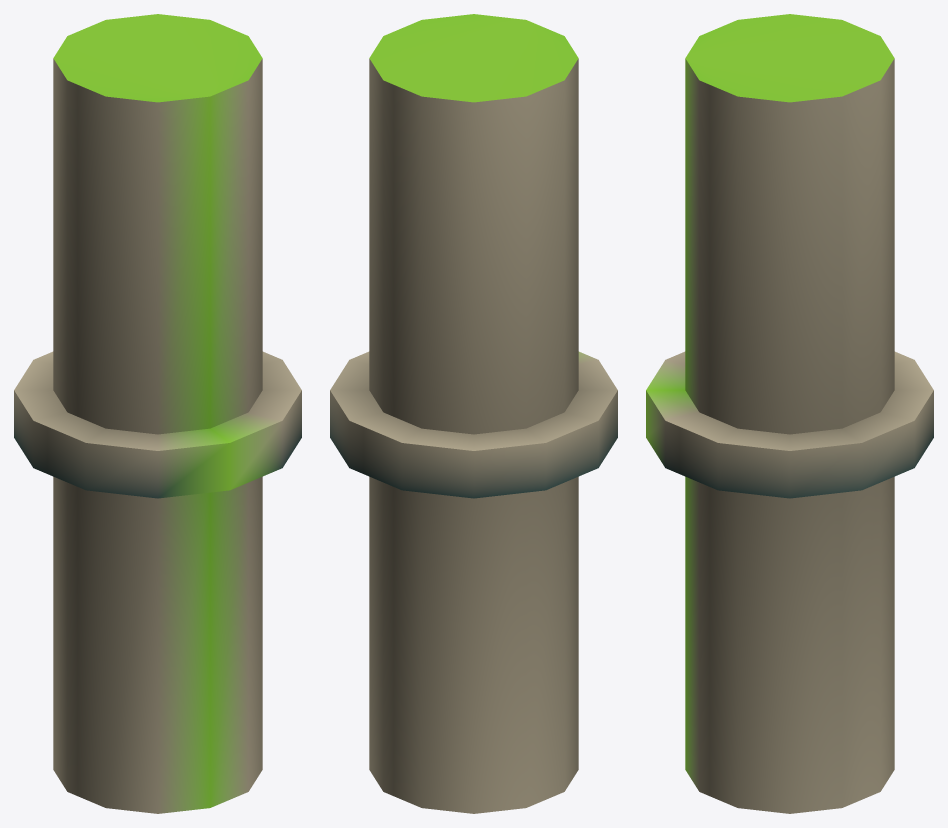
Rendered from intake_spine_segment.glb.
The picture shows the model from 3 angles, left to right: view 1: azimuth 30°, elevation 25°; view 2: azimuth 150°, elevation 25°; view 3: azimuth 270°, elevation 25°; orthographic projection.
Visible parts, largest first — view 1: Spine; view 2: Spine; view 3: Spine.
Part boxes in pixels (x1=…): Spine: x1=14, y1=14, x2=301, y2=813; Spine: x1=330, y1=14, x2=617, y2=813; Spine: x1=646, y1=14, x2=933, y2=813.
Bounding box in the file's own units: 2.2 × 6 × 2.2.
